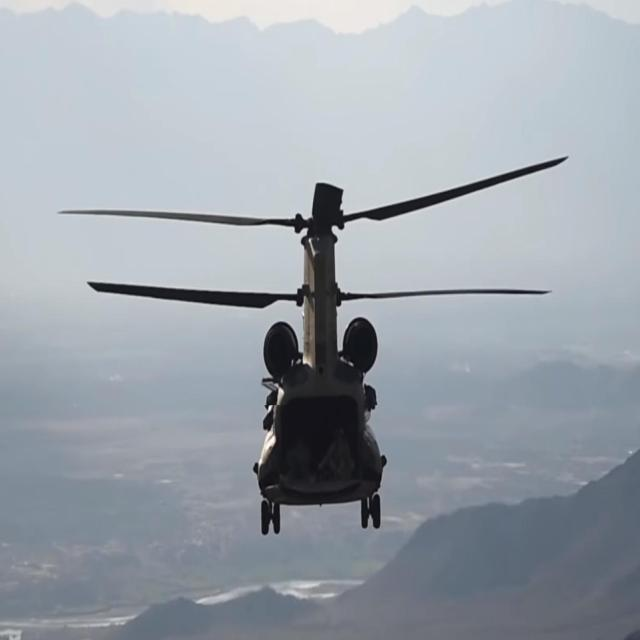Helicopter: (63, 144, 571, 539)
